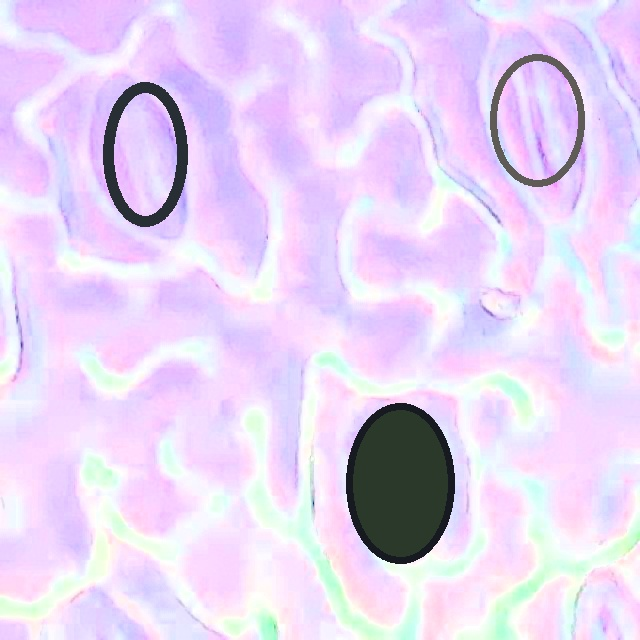open: (345, 403, 455, 564), (489, 53, 585, 187), (102, 82, 188, 227)
